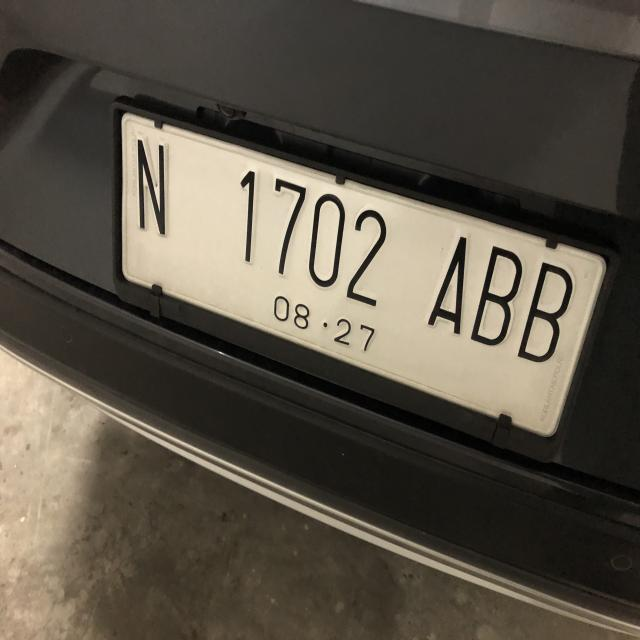0: (308, 188, 347, 290)
1: (237, 165, 258, 272)
2: (348, 194, 391, 311)
7: (269, 171, 304, 277)
A: (430, 227, 466, 332)
B: (473, 242, 521, 342), (524, 260, 568, 363)
N: (130, 132, 172, 250)
